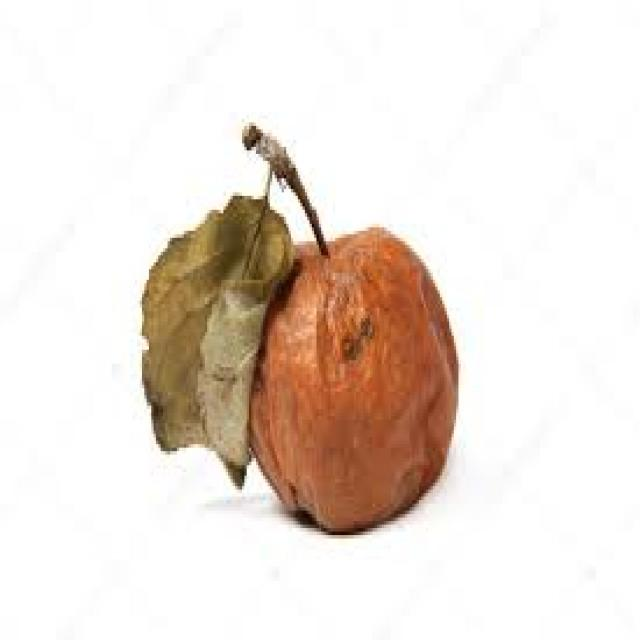organic waste: (240, 224, 456, 535), (138, 192, 294, 490)
